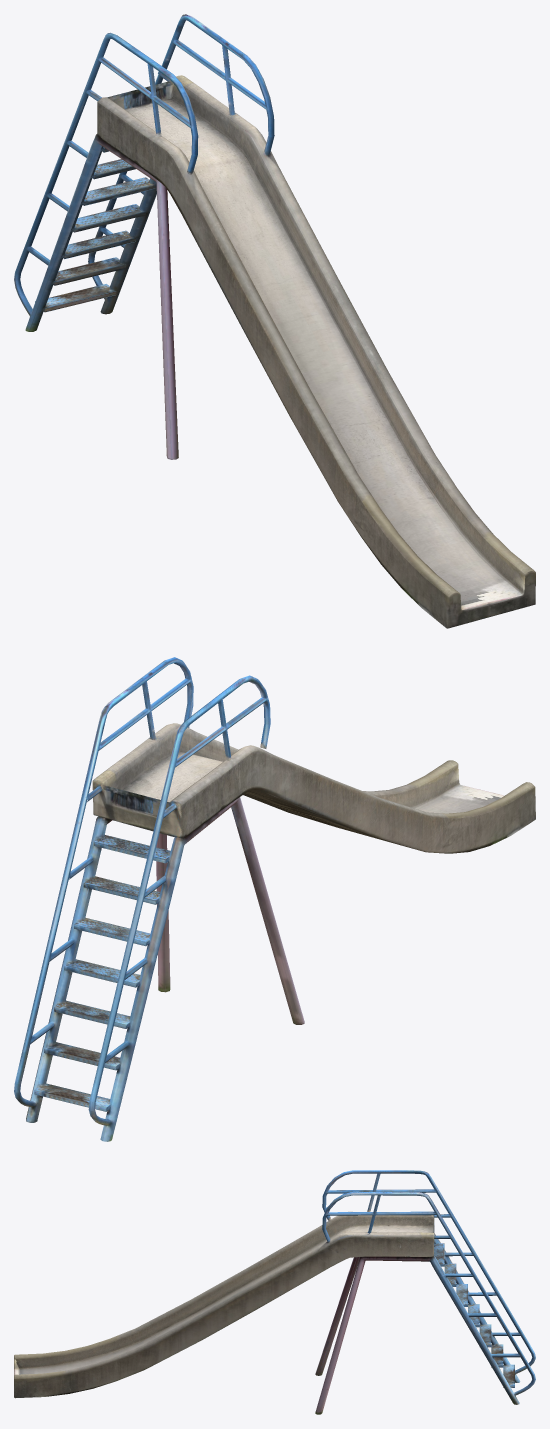
Rendered from ParkSuberidai.glb.
3 views of the same model, one above another, from view 1: azimuth 30°, elevation 25°; view 2: azimuth 150°, elevation 25°; view 3: azimuth 270°, elevation 25° (orthographic). The views are drawn at different scales.
Visible parts, largest first — view 1: Park_Suberidai_001; view 2: Park_Suberidai_001; view 3: Park_Suberidai_001.
Part boxes in pixels (x1,y1,x2,y2): Park_Suberidai_001: [14, 14, 535, 628]; Park_Suberidai_001: [14, 657, 535, 1141]; Park_Suberidai_001: [14, 1170, 535, 1414].
Bounding box in the file's own units: 8.11 × 19.16 × 42.7.
1 material, 1 textured.
